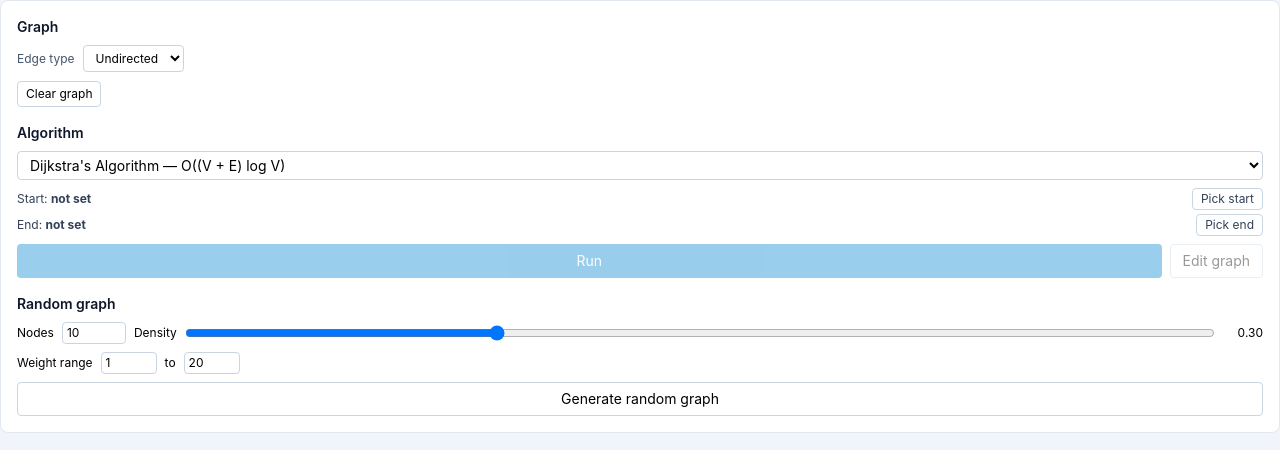
Test: ControlPanel › toggles pick-start mode and reflects the picked node label after a pick
The width and height of the screenshot is (1280, 450).
Click the button "Pick start": click(1227, 199) [1192,188,1263,210]
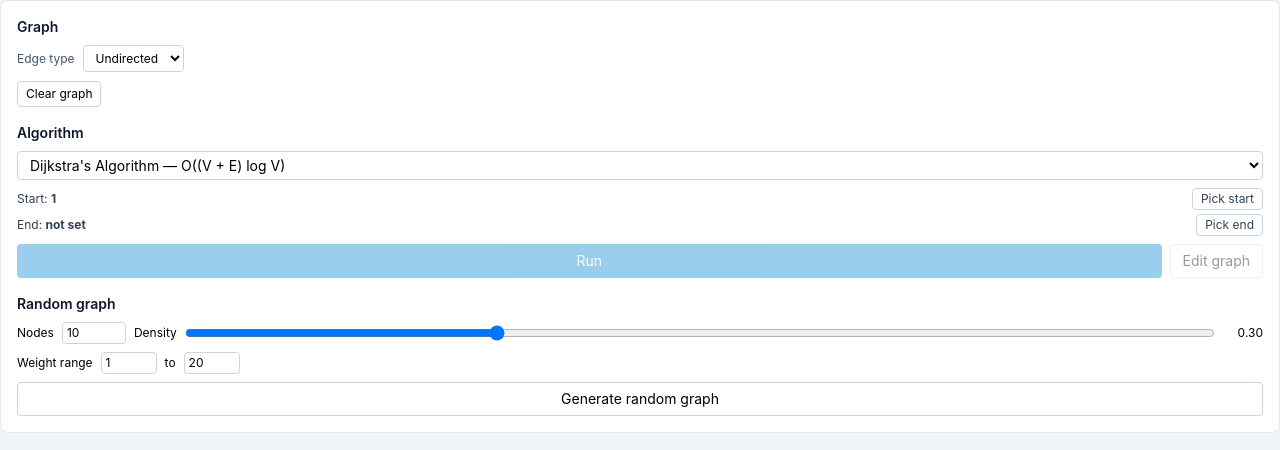
Check: the text "1" is shown, box [51,191,56,206]
